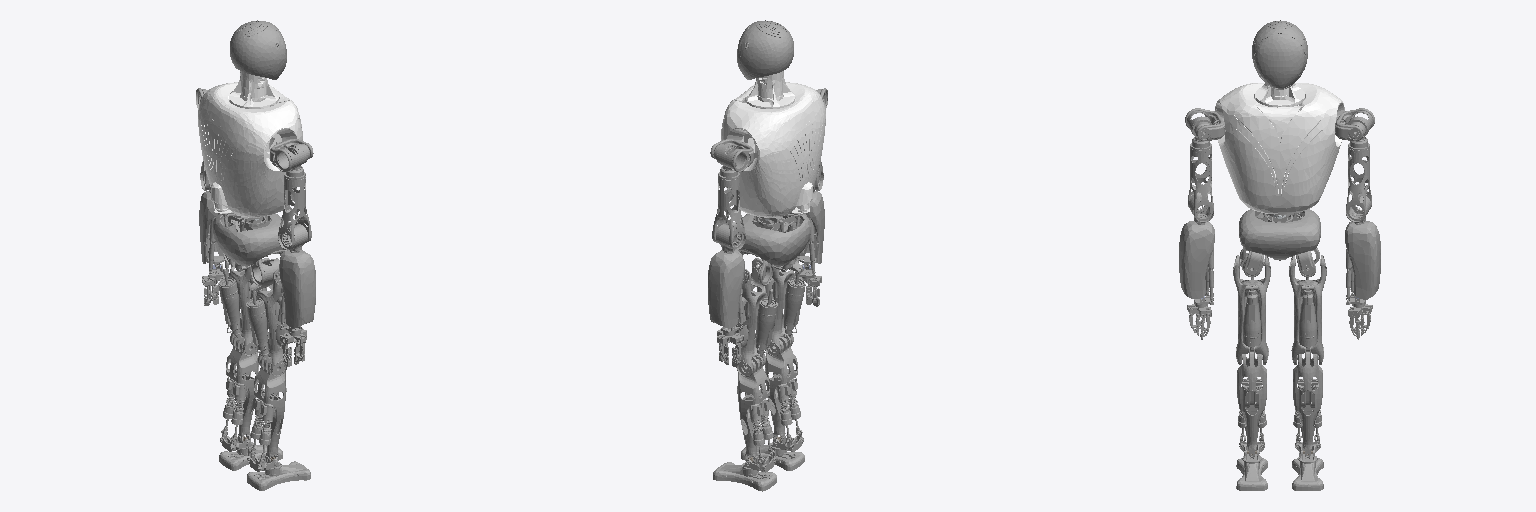
--- Facts derived from the render (not from the file) ---
3 views of the same robot in one strip: view 1: azimuth 30°, elevation 25°; view 2: azimuth 150°, elevation 25°; view 3: azimuth 270°, elevation 25° (orthographic).
Model RH5 with 62 links and 61 joints (35 revolute, 3 prismatic, 23 fixed), rooted at world, posed every joint at zero.
Visible links, largest first — view 1: BodyYaw_Link, RH5_Root_Link, HeadYaw_Link, LRKnee_Link, LLKnee_Link, ARWristRoll_Link, ARShoulder3_Link, LRHip3_Link, LRHip2_Link, LRAnkle_FT, ALWristRoll_Link, LLHip3_Link (+5 smaller); view 2: BodyYaw_Link, RH5_Root_Link, HeadYaw_Link, LLKnee_Link, ALWristRoll_Link, LRKnee_Link, LLHip3_Link, ALShoulder3_Link, LLAnkle_FT, ARWristRoll_Link, LRHip3_Link, LRHip2_Link (+5 smaller); view 3: BodyYaw_Link, RH5_Root_Link, HeadYaw_Link, LRHip3_Link, ALWristRoll_Link, ARWristRoll_Link, LLHip3_Link, LLKnee_Link, LRKnee_Link, ALShoulder3_Link, ARShoulder3_Link, LLAnkle_FT (+5 smaller).
Boxes of the visible links, bbox=[...] form: BodyYaw_Link: bbox=[198, 71, 302, 217]; RH5_Root_Link: bbox=[213, 213, 290, 271]; HeadYaw_Link: bbox=[230, 20, 286, 79]; LRKnee_Link: bbox=[250, 356, 286, 462]; LLKnee_Link: bbox=[223, 336, 258, 442]; ARWristRoll_Link: bbox=[279, 250, 315, 328]; ARShoulder3_Link: bbox=[278, 166, 311, 249]; LRHip3_Link: bbox=[256, 258, 289, 375]; LRHip2_Link: bbox=[246, 258, 279, 355]; LRAnkle_FT: bbox=[247, 456, 310, 490]; ALWristRoll_Link: bbox=[199, 191, 228, 273]; LLHip3_Link: bbox=[228, 267, 266, 355]; BodyYaw_Link: bbox=[721, 71, 825, 217]; RH5_Root_Link: bbox=[740, 213, 810, 271]; HeadYaw_Link: bbox=[737, 20, 793, 79]; LLKnee_Link: bbox=[737, 357, 773, 463]; ALWristRoll_Link: bbox=[708, 250, 744, 328]; LRKnee_Link: bbox=[765, 336, 800, 443]; LLHip3_Link: bbox=[733, 258, 767, 376]; ALShoulder3_Link: bbox=[712, 166, 745, 249]; LLAnkle_FT: bbox=[713, 456, 776, 491]; ARWristRoll_Link: bbox=[798, 191, 824, 272]; LRHip3_Link: bbox=[757, 268, 795, 355]; LRHip2_Link: bbox=[784, 262, 805, 335]; BodyYaw_Link: bbox=[1215, 83, 1344, 214]; RH5_Root_Link: bbox=[1239, 209, 1320, 260]; HeadYaw_Link: bbox=[1252, 20, 1307, 89]; LRHip3_Link: bbox=[1233, 255, 1270, 364]; ALWristRoll_Link: bbox=[1345, 221, 1380, 300]; ARWristRoll_Link: bbox=[1179, 221, 1214, 300]; LLHip3_Link: bbox=[1289, 255, 1326, 364]; LLKnee_Link: bbox=[1293, 347, 1322, 457]; LRKnee_Link: bbox=[1237, 347, 1266, 457]; ALShoulder3_Link: bbox=[1346, 137, 1371, 222]; ARShoulder3_Link: bbox=[1188, 137, 1213, 222]; LLAnkle_FT: bbox=[1292, 441, 1323, 490].
Bounding box of the posed robot: 0.3672 × 0.8021 × 1.98 m (x, y, z).
Meshes: 53 distinct files referenced, 79 mesh visuals loaded (51 binary STL); not drawn: 3 (reference not matched to a file when rendering).

robot.urdf — RH5:
<robot name="RH5">


        <link name="world">
        <inertial>
          <origin xyz="0 0 0" rpy="0.0 0.0 0.0"/>
          <mass value="0.0"/>
          <inertia ixx="0" ixy="0" ixz="0" iyy="0" iyz="0.0" izz="0"/>
        </inertial>
        </link>

        <link name="Root_Link_x">
           </link>

            <joint name="floating_base_trans_x" type="prismatic">
        <origin xyz="0 0 0" rpy="0 0 0"/>
            <parent link="world" />
    	<child link="Root_Link_x" />
    	<axis xyz="1 0 0" />
            <limit lower="-1.57" upper="1.57" effort="0" velocity="0" />
    	</joint>

    	<link name="Root_Link_y">
    	</link>

    	<joint
            name="floating_base_trans_y" type="prismatic">
    	<parent link="Root_Link_x" />
    	<child link="Root_Link_y" />
    	<axis xyz="0 1 0" />
    	<limit lower="-1.57" upper="1.57" effort="0" velocity="0" />
    	</joint>

    	<link name="Root_Link_z">
    	</link>

    	<joint
            name="floating_base_trans_z" type="prismatic">
    	<parent link="Root_Link_y" />
    	<child link="Root_Link_z" />
    	<axis xyz="0 0 1" />
    	<limit lower="-1.57" upper="1.57" effort="0" velocity="0" />
    	</joint>

    	<link name="Root_Link_rx">
    	</link>

    	<joint
            name="floating_base_rot_x" type="revolute">
        <origin xyz="0 0 0" rpy="0 0 0"/>
    	<parent link="Root_Link_z" />
    	<child link="Root_Link_rx" />
    	<axis xyz="1 0 0" />
    	<limit lower="-1.57" upper="1.57" effort="0" velocity="0" />
    	</joint>

    	<link name="Root_Link_ry">
    	</link>

    	<joint
            name="floating_base_rot_y" type="revolute">
    	<parent link="Root_Link_rx" />
    	<child link="Root_Link_ry" />
    	<axis xyz="0 1 0" />
    	<limit lower="-1.57" upper="1.57" effort="0" velocity="0" />
    	</joint>

    	<joint
            name="floating_base_rot_z" type="revolute">
    	<parent link="Root_Link_ry" />
            <child link="RH5_Root_Link" />
    	<axis xyz="0 0 1" />
    	<limit lower="-1.57" upper="1.57" effort="0" velocity="0" />
    	</joint>

  <joint name="ALElbow" type="revolute">
    <origin xyz="0.0 0.0 0.355" rpy="1.5708 -1.5708 0.0"/>
    <axis xyz="0.0 0.0 -1.0"/>
    <parent link="ALShoulder3_Link"/>
    <child link="ALElbow_Link"/>
    <limit effort="30.0" lower="-1.62" upper="0.1872" velocity="1.8326"/>
  </joint>
  <link name="ALElbow_Link">
    <inertial>
      <origin xyz="0.010641 3.9392e-07 0.0080701" rpy="0.0 0.0 0.0"/>
      <mass value="0.255"/>
      <inertia ixx="0.00028052" ixy="-4.0187e-09" ixz="2.2663e-05" iyy="0.00036848" iyz="2.9394e-09" izz="0.00038255"/>
    </inertial>
    <visual name="ALElbow_Link_visual">
      <origin xyz="0.0 0.0 0.0" rpy="0.0 0.0 0.0"/>
      <geometry>
        <mesh filename="../meshes/ALElbow_Link.STL"/>
      </geometry>
      <material name="">
        <color rgba="0.69804 0.69804 0.69804 1.0"/>
      </material>
    </visual>
  </link>
  <joint name="ALShoulder" type="fixed">
    <origin xyz="0.012 0.313 0.386" rpy="1.5708 0.0 2.8988"/>
    <parent link="BodyYaw_Link"/>
    <child link="ALShoulder_Link"/>
    <limit effort="150.0" lower="0.0" upper="0.0" velocity="1.658"/>
  </joint>
  <joint name="ALShoulder1" type="revolute">
    <origin xyz="0.0 0.0 0.0" rpy="1.5708 -1.5708 0.0"/>
    <axis xyz="1.0 0.0 0.0"/>
    <parent link="ALShoulder_Link"/>
    <child link="ALShoulder1_Link"/>
    <limit effort="135.0" lower="-3.0543" upper="3.0543" velocity="1.8326"/>
  </joint>
  <link name="ALShoulder1_Link">
    <inertial>
      <origin xyz="-0.053027 0.0029798 -1.6132e-07" rpy="0.0 0.0 0.0"/>
      <mass value="0.47438"/>
      <inertia ixx="0.0013753" ixy="3.4317e-05" ixz="-5.2624e-09" iyy="0.00084701" iyz="1.2533e-08" izz="0.0018205"/>
    </inertial>
    <visual name="ALShoulder1_Link_visual">
      <origin xyz="0.0 0.0 0.0" rpy="0.0 0.0 0.0"/>
      <geometry>
        <mesh filename="../meshes/ALShoulder1_Link.STL"/>
      </geometry>
      <material name="">
        <color rgba="0.69804 0.69804 0.69804 1.0"/>
      </material>
    </visual>
  </link>
  <joint name="ALShoulder2" type="revolute">
    <origin xyz="0.0 0.0 0.0" rpy="0.0 1.9722e-31 0.0"/>
    <axis xyz="0.0 1.0 0.0"/>
    <parent link="ALShoulder1_Link"/>
    <child link="ALShoulder2_Link"/>
    <limit effort="167.0" lower="-0.5236" upper="1.571" velocity="1.8326"/>
  </joint>
  <link name="ALShoulder2_Link">
    <inertial>
      <origin xyz="2.5304e-05 0.0076989 0.0023608" rpy="0.0 0.0 0.0"/>
      <mass value="0.98"/>
      <inertia ixx="0.0012245" ixy="3.9462e-07" ixz="5.5448e-07" iyy="0.0010372" iyz="3.2296e-05" izz="0.0012057"/>
    </inertial>
    <visual name="ALShoulder2_Link_visual">
      <origin xyz="0.0 0.0 0.0" rpy="0.0 0.0 0.0"/>
      <geometry>
        <mesh filename="../meshes/ALShoulder2_Link.STL"/>
      </geometry>
      <material name="">
        <color rgba="0.69804 0.69804 0.69804 1.0"/>
      </material>
    </visual>
  </link>
  <joint name="ALShoulder3" type="revolute">
    <origin xyz="0.0 0.0 0.0" rpy="0.0 1.9722e-31 0.0"/>
    <axis xyz="0.0 0.0 1.0"/>
    <parent link="ALShoulder2_Link"/>
    <child link="ALShoulder3_Link"/>
    <limit effort="53.0" lower="-3.0543" upper="3.0543" velocity="1.8326"/>
  </joint>
  <link name="ALShoulder3_Link">
    <inertial>
      <origin xyz="7.9284e-06 3.7845e-05 0.16439" rpy="0.0 0.0 0.0"/>
      <mass value="1.3999"/>
      <inertia ixx="0.013898" ixy="1.2682e-06" ixz="8.7833e-07" iyy="0.013686" iyz="2.7121e-06" izz="0.0019878"/>
    </inertial>
    <visual name="ALShoulder3_Link_visual">
      <origin xyz="0.0 0.0 0.0" rpy="0.0 0.0 0.0"/>
      <geometry>
        <mesh filename="../meshes/ALShoulder3_Link.STL"/>
      </geometry>
      <material name="">
        <color rgba="0.69804 0.69804 0.69804 1.0"/>
      </material>
    </visual>
    <collision name="ALShoulder3_Link_collision">
      <origin xyz="-1.862645149230957e-09 4.284083843231201e-08 0.2224999964237213" rpy="0.0 -0.0 0.0"/>
      <geometry>
        <box size="0.08700039610266685 0.11106326058506966 0.34700000286102295"/>
      </geometry>
    </collision>
  </link>
  <link name="ALShoulder_Link"/>
  <joint name="ALWristPitch" type="revolute">
    <origin xyz="0.0 0.0 0.0" rpy="-4.9304e-32 -9.5526e-32 0.0"/>
    <axis xyz="0.0 1.0 0.0"/>
    <parent link="ALWristYaw_Link"/>
    <child link="ALWristPitch_Link"/>
    <limit effort="12.5" lower="-3.1416" upper="3.1416" velocity="5.0"/>
  </joint>
  <link name="ALWristPitch_Link">
    <inertial>
      <origin xyz="3.0531e-14 -6.0923e-15 -3.3085e-14" rpy="0.0 0.0 0.0"/>
      <mass value="6.2832e-06"/>
      <inertia ixx="3.6652e-12" ixy="1.757e-26" ixz="2.9539e-41" iyy="3.1416e-12" iyz="-9.766e-28" izz="3.6652e-12"/>
    </inertial>
    <visual name="ALWristPitch_Link_visual">
      <origin xyz="0.0 0.0 0.0" rpy="0.0 0.0 0.0"/>
      <geometry>
        <mesh filename="../meshes/ALWristPitch_Link.STL"/>
      </geometry>
      <material name="">
        <color rgba="0.79216 0.81961 0.93333 1.0"/>
      </material>
    </visual>
  </link>
  <joint name="ALWristRoll" type="revolute">
    <origin xyz="0.386 0.0 0.0" rpy="-1.5708 3.1415926536 1.5708"/>
    <axis xyz="0.0 0.0 -1.0"/>
    <parent link="ALElbow_Link"/>
    <child link="ALWristRoll_Link"/>
    <limit effort="53.0" lower="-3.0543" upper="3.0543" velocity="1.8326"/>
  </joint>
  <link name="ALWristRoll_Link">
    <inertial>
      <origin xyz="0.025274 -4.3815e-06 0.19965" rpy="0.0 0.0 0.0"/>
      <mass value="2.7535303221510077"/>
      <inertia ixx="0.02143437784400675" ixy="-9.847185892502454e-07" ixz="0.002595868954405005" iyy="0.02185740729863702" iyz="9.795344617435307e-07" izz="0.005193234315356229"/>
    </inertial>
    <visual name="ALWristRoll_Link_visual">
      <origin xyz="0.0 0.0 0.0" rpy="0.0 0.0 0.0"/>
      <geometry>
        <mesh filename="../meshes/ALWristRoll_Link.STL"/>
      </geometry>
      <material name="">
        <color rgba="0.69804 0.69804 0.69804 1.0"/>
      </material>
    </visual>
    <collision name="ALWristRoll_Link_collision">
      <origin xyz="0.014875711873173714 0.0 0.16224999818950891" rpy="0.0 -0.0 0.0"/>
      <geometry>
        <box size="0.13932063803076744 0.11817342042922974 0.34249999932944775"/>
      </geometry>
    </collision>
    <visual name="ALWrist_B11_Link_visual">
      <origin xyz="-0.032 -0.016 0.2616" rpy="3.0704 -3.3070000000000003e-15 -2.7145e-14"/>
      <geometry>
        <mesh filename="../meshes/ALWrist_B11_Link.STL"/>
      </geometry>
      <material name="">
        <color rgba="0.64706 0.61961 0.58824 1.0"/>
      </material>
    </visual>
    <visual name="ALWrist_B12_Link_visual">
      <origin xyz="-0.032 -0.016 0.2616" rpy="3.070392054331078 0.014927088938295474 -0.0010645773830478876"/>
      <geometry>
        <mesh filename="../meshes/ALWrist_B12_Link.STL"/>
      </geometry>
      <material name="">
        <color rgba="0.69804 0.69804 0.69804 1.0"/>
      </material>
    </visual>
    <visual name="ALWrist_Act1_Link_visual">
      <origin xyz="-0.03600014483987568 -0.03501230750565344 -0.005003014057550548" rpy="3.1415480000000042 -2.3388489558662824e-15 -1.3532290290170274e-14"/>
      <geometry>
        <mesh filename="../meshes/ALWrist_Act1_Link.STL"/>
      </geometry>
      <material name="">
        <color rgba="0.69804 0.69804 0.69804 1.0"/>
      </material>
    </visual>
    <visual name="ALWrist_B21_Link_visual">
      <origin xyz="-0.032 0.016 0.2616" rpy="-3.0704 0.014927000000000003 0.0010639000000000002"/>
      <geometry>
        <mesh filename="../meshes/ALWrist_B21_Link.STL"/>
      </geometry>
      <material name="">
        <color rgba="0.64706 0.61961 0.58824 1.0"/>
      </material>
    </visual>
    <visual name="ALWrist_B22_Link_visual">
      <origin xyz="-0.032 0.016 0.2616" rpy="-3.0703969702485048 0.017543554826743444 0.0012505233584122017"/>
      <geometry>
        <mesh filename="../meshes/ALWrist_B22_Link.STL"/>
      </geometry>
      <material name="">
        <color rgba="0.69804 0.69804 0.69804 1.0"/>
      </material>
    </visual>
    <visual name="ALWrist_Act2_Link_visual">
      <origin xyz="-0.036000141211532416 0.035010257045837365 -0.0050040824232726044" rpy="-3.0704 0.014927 0.0010639000000000533"/>
      <geometry>
        <mesh filename="../meshes/ALWrist_Act2_Link.STL"/>
      </geometry>
      <material name="">
        <color rgba="0.69804 0.69804 0.69804 1.0"/>
      </material>
    </visual>
  </link>
  <joint name="ALWristYaw" type="revolute">
    <origin xyz="0.0 0.0 0.0" rpy="-4.9304e-32 -9.5526e-32 0.0"/>
    <axis xyz="1.0 0.0 0.0"/>
    <parent link="ALWristRoll_Link"/>
    <child link="ALWristYaw_Link"/>
    <limit effort="12.5" lower="-1.2566" upper="0.7853" velocity="5.0"/>
  </joint>
  <link name="ALWristYaw_Link">
    <inertial>
      <origin xyz="-3.8303e-15 -5.8703e-15 -1.6653e-16" rpy="0.0 0.0 0.0"/>
      <mass value="0.006976"/>
      <inertia ixx="1.0349e-06" ixy="-7.3387e-21" ixz="1.7878e-22" iyy="4.8433e-07" iyz="-5.1569e-21" izz="1.4399e-06"/>
    </inertial>
    <visual name="ALWristYaw_Link_visual">
      <origin xyz="0.0 0.0 0.0" rpy="0.0 0.0 0.0"/>
      <geometry>
        <mesh filename="../meshes/ALWristYaw_Link.STL"/>
      </geometry>
      <material name="">
        <color rgba="0.79216 0.81961 0.93333 1.0"/>
      </material>
    </visual>
  </link>

  <link name="AL_TCP_Link"/>
  <joint name="AL_TCP" type="fixed">
    <origin xyz="0.01 0.0 0.15" rpy="0 0 0"/>
    <axis xyz="0.0 0.0 0.0"/>
    <parent link="ALWrist_FT"/>
    <child link="AL_TCP_Link"/>
  </joint>

  <link name="ALWrist_FT">
    <inertial>
      <origin xyz="0.0013964 -8.0618e-05 0.041768" rpy="0.0 0.0 0.0"/>
      <mass value="0.46746"/>
      <inertia ixx="0.0011813" ixy="9.7393e-07" ixz="-6.577e-05" iyy="0.00099999" iyz="3.5173e-06" izz="0.00055976"/>
    </inertial>
    <visual name="ALWrist_FT_visual">
      <origin xyz="0.0 0.0 0.0" rpy="0.0 0.0 0.0"/>
      <geometry>
        <mesh filename="../meshes/ALWrist_FT.STL"/>
      </geometry>
      <material name="">
        <color rgba="0.69804 0.69804 0.69804 1.0"/>
      </material>
    </visual>
    <collision name="ALWrist_FT_collision">
      <origin xyz="0.004535641521215439 -9.125098586082458e-06 0.05165606364607811" rpy="0.0 -0.0 0.0"/>
      <geometry>
        <box size="0.0960712879896164 0.1100204549729824 0.1812121346592903"/>
      </geometry>
    </collision>
  </link>
  <joint name="ALWrist_FT" type="fixed">
    <origin xyz="0.0 0.0 -0.02995" rpy="-3.1416 -2.9034e-15 1.6653e-16"/>
    <axis xyz="0.0 0.0 0.0"/>
    <parent link="ALWristPitch_Link"/>
    <child link="ALWrist_FT"/>
  </joint>
  <joint name="ARElbow" type="revolute">
    <origin xyz="0.0 0.0 0.355" rpy="1.5708 -1.5708 0.0"/>
    <axis xyz="0.0 0.0 -1.0"/>
    <parent link="ARShoulder3_Link"/>
    <child link="ARElbow_Link"/>
    <limit effort="30.0" lower="-0.1872" upper="1.62" velocity="1.8326"/>
  </joint>
  <link name="ARElbow_Link">
    <inertial>
      <origin xyz="0.010641 3.9392e-07 0.0080701" rpy="0.0 0.0 0.0"/>
      <mass value="0.255"/>
      <inertia ixx="0.00028052" ixy="-4.0187e-09" ixz="2.2663e-05" iyy="0.00036848" iyz="2.9394e-09" izz="0.00038255"/>
    </inertial>
    <visual name="ARElbow_Link_visual">
      <origin xyz="0.0 0.0 0.0" rpy="0.0 0.0 0.0"/>
      <geometry>
        <mesh filename="../meshes/ALElbow_Link.STL"/>
      </geometry>
      <material name="">
        <color rgba="0.69804 0.69804 0.69804 1.0"/>
      </material>
    </visual>
  </link>
  <joint name="ARShoulder" type="fixed">
    <origin xyz="0.012 -0.313 0.386" rpy="1.5708 0.0 0.2428"/>
    <parent link="BodyYaw_Link"/>
    <child link="ARShoulder_Link"/>
    <limit effort="150.0" lower="0.0" upper="0.0" velocity="1.658"/>
  </joint>
  <joint name="ARShoulder1" type="revolute">
    <origin xyz="0.0 0.0 0.0" rpy="1.5708 1.5708 0.0"/>
    <axis xyz="-1.0 0.0 0.0"/>
    <parent link="ARShoulder_Link"/>
    <child link="ARShoulder1_Link"/>
    <limit effort="135.0" lower="-3.0543" upper="3.0543" velocity="1.8326"/>
  </joint>
  <link name="ARShoulder1_Link">
    <inertial>
      <origin xyz="0.053027 0.0029798 1.6135e-07" rpy="0.0 0.0 0.0"/>
      <mass value="0.47438"/>
      <inertia ixx="0.0013753" ixy="-3.4317e-05" ixz="-5.2626e-09" iyy="0.000847" iyz="-1.2533e-08" izz="0.0018205"/>
    </inertial>
    <visual name="ARShoulder1_Link_visual">
      <origin xyz="0.0 0.0 0.0" rpy="0.0 0.0 0.0"/>
      <geometry>
        <mesh filename="../meshes/ARShoulder1_Link.STL"/>
      </geometry>
      <material name="">
        <color rgba="0.69804 0.69804 0.69804 1.0"/>
      </material>
    </visual>
  </link>
  <joint name="ARShoulder2" type="revolute">
    <origin xyz="0.0 0.0 0.0" rpy="0.0 -1.9722e-31 0.0"/>
    <axis xyz="0.0 1.0 0.0"/>
    <parent link="ARShoulder1_Link"/>
    <child link="ARShoulder2_Link"/>
    <limit effort="167.0" lower="-1.571" upper="0.5236" velocity="1.8326"/>
  </joint>
  <link name="ARShoulder2_Link">
    <inertial>
      <origin xyz="2.5307e-05 0.0076989 0.0023608" rpy="0.0 0.0 0.0"/>
      <mass value="0.98"/>
      <inertia ixx="0.0012245" ixy="3.9471e-07" ixz="5.5464e-07" iyy="0.0010372" iyz="3.2296e-05" izz="0.0012057"/>
    </inertial>
    <visual name="ARShoulder2_Link_visual">
      <origin xyz="0.0 0.0 0.0" rpy="0.0 0.0 0.0"/>
      <geometry>
        <mesh filename="../meshes/ARShoulder2_Link.STL"/>
      </geometry>
      <material name="">
        <color rgba="0.69804 0.69804 0.69804 1.0"/>
      </material>
    </visual>
  </link>
  <joint name="ARShoulder3" type="revolute">
    <origin xyz="0.0 0.0 0.0" rpy="0.0 1.9722e-31 0.0"/>
    <axis xyz="0.0 0.0 1.0"/>
    <parent link="ARShoulder2_Link"/>
    <child link="ARShoulder3_Link"/>
    <limit effort="53.0" lower="-3.0543" upper="3.0543" velocity="1.8326"/>
  </joint>
  <link name="ARShoulder3_Link">
    <inertial>
      <origin xyz="7.9284e-06 3.7845e-05 0.16439" rpy="0.0 0.0 0.0"/>
      <mass value="1.3999"/>
      <inertia ixx="0.013898" ixy="1.2682e-06" ixz="8.7833e-07" iyy="0.013686" iyz="2.7121e-06" izz="0.0019878"/>
    </inertial>
    <visual name="ARShoulder3_Link_visual">
      <origin xyz="0.0 0.0 0.0" rpy="0.0 0.0 0.0"/>
      <geometry>
        <mesh filename="../meshes/ALShoulder3_Link.STL"/>
      </geometry>
      <material name="">
        <color rgba="0.69804 0.69804 0.69804 1.0"/>
      </material>
    </visual>
    <collision name="ARShoulder3_Link_collision">
      <origin xyz="-1.862645149230957e-09 4.284083843231201e-08 0.2224999964237213" rpy="0.0 -0.0 0.0"/>
      <geometry>
        <box size="0.08700039610266685 0.11106326058506966 0.34700000286102295"/>
      </geometry>
    </collision>
  </link>
  <link name="ARShoulder_Link"/>
  <joint name="ARWristPitch" type="revolute">
    <origin xyz="0.0 0.0 0.0" rpy="-4.9304e-32 -9.5526e-32 0.0"/>
    <axis xyz="0.0 1.0 0.0"/>
    <parent link="ARWristYaw_Link"/>
    <child link="ARWristPitch_Link"/>
    <limit effort="12.5" lower="-3.1416" upper="3.1416" velocity="5.0"/>
  </joint>
  <link name="ARWristPitch_Link">
    <inertial>
      <origin xyz="3.0531e-14 -6.0923e-15 -3.3085e-14" rpy="0.0 0.0 0.0"/>
      <mass value="6.2832e-06"/>
      <inertia ixx="3.6652e-12" ixy="1.757e-26" ixz="2.9539e-41" iyy="3.1416e-12" iyz="-9.766e-28" izz="3.6652e-12"/>
    </inertial>
    <visual name="ARWristPitch_Link_visual">
      <origin xyz="0.0 0.0 0.0" rpy="0.0 0.0 0.0"/>
      <geometry>
        <mesh filename="../meshes/ALWristPitch_Link.STL"/>
      </geometry>
      <material name="">
        <color rgba="0.79216 0.81961 0.93333 1.0"/>
      </material>
    </visual>
  </link>
  <joint name="ARWristRoll" type="revolute">
    <origin xyz="0.386 0.0 0.0" rpy="-1.5708 0.0 1.5708"/>
    <axis xyz="0.0 0.0 -1.0"/>
    <parent link="ARElbow_Link"/>
    <child link="ARWristRoll_Link"/>
    <limit effort="53.0" lower="-3.0543" upper="3.0543" velocity="1.8326"/>
  </joint>
  <link name="ARWristRoll_Link">
    <inertial>
      <origin xyz="0.025274 -4.3815e-06 0.19965" rpy="0.0 0.0 0.0"/>
      <mass value="2.7535303221510077"/>
      <inertia ixx="0.02143437784400675" ixy="-9.847185892502454e-07" ixz="0.002595868954405005" iyy="0.02185740729863702" iyz="9.795344617435307e-07" izz="0.005193234315356229"/>
    </inertial>
    <visual name="ARWristRoll_Link_visual">
      <origin xyz="0.0 0.0 0.0" rpy="0.0 0.0 0.0"/>
      <geometry>
        <mesh filename="../meshes/ALWristRoll_Link.STL"/>
      </geometry>
      <material name="">
        <color rgba="0.69804 0.69804 0.69804 1.0"/>
      </material>
    </visual>
    <collision name="ARWristRoll_Link_collision">
      <origin xyz="0.014875711873173714 0.0 0.16224999818950891" rpy="0.0 -0.0 0.0"/>
      <geometry>
        <box size="0.13932063803076744 0.11817342042922974 0.34249999932944775"/>
      </geometry>
    </collision>
    <visual name="ARWrist_B11_Link_visual">
      <origin xyz="-0.032 -0.016 0.2616" rpy="3.0704 -3.3070000000000003e-15 -2.7145e-14"/>
      <geometry>
        <mesh filename="../meshes/ALWrist_B11_Link.STL"/>
      </geometry>
      <material name="">
        <color rgba="0.64706 0.61961 0.58824 1.0"/>
      </material>
    </visual>
    <visual name="ARWrist_B12_Link_visual">
      <origin xyz="-0.032 -0.016 0.2616" rpy="3.070392054331078 0.014927088938295474 -0.0010645773830478876"/>
      <geometry>
        <mesh filename="../meshes/ALWrist_B12_Link.STL"/>
      </geometry>
      <material name="">
        <color rgba="0.69804 0.69804 0.69804 1.0"/>
      </material>
    </visual>
    <visual name="ARWrist_Act1_Link_visual">
      <origin xyz="-0.03600014483987568 -0.03501230750565344 -0.005003014057550548" rpy="3.1415480000000042 -2.3388489558662824e-15 -1.3532290290170274e-14"/>
      <geometry>
        <mesh filename="../meshes/ALWrist_Act1_Link.STL"/>
      </geometry>
      <material name="">
        <color rgba="0.69804 0.69804 0.69804 1.0"/>
      </material>
    </visual>
    <visual name="ARWrist_B21_Link_visual">
      <origin xyz="-0.032 0.016 0.2616" rpy="-3.0704 0.014927000000000003 0.0010639000000000002"/>
      <geometry>
        <mesh filename="../meshes/ALWrist_B21_Link.STL"/>
      </geometry>
      <material name="">
        <color rgba="0.64706 0.61961 0.58824 1.0"/>
      </material>
    </visual>
    <visual name="ARWrist_B22_Link_visual">
      <origin xyz="-0.032 0.016 0.2616" rpy="-3.0703969702485048 0.017543554826743444 0.0012505233584122017"/>
      <geometry>
        <mesh filename="../meshes/ALWrist_B22_Link.STL"/>
      </geometry>
      <material name="">
        <color rgba="0.69804 0.69804 0.69804 1.0"/>
      </material>
    </visual>
    <visual name="ARWrist_Act2_Link_visual">
      <origin xyz="-0.036000141211532416 0.035010257045837365 -0.0050040824232726044" rpy="-3.0704 0.014927 0.0010639000000000533"/>
      <geometry>
        <mesh filename="../meshes/ALWrist_Act2_Link.STL"/>
      </geometry>
      <material name="">
        <color rgba="0.69804 0.69804 0.69804 1.0"/>
      </material>
    </visual>
  </link>
  <joint name="ARWristYaw" type="revolute">
    <origin xyz="0.0 0.0 0.0" rpy="-4.9304e-32 -9.5526e-32 0.0"/>
    <axis xyz="1.0 0.0 0.0"/>
    <parent link="ARWristRoll_Link"/>
    <child link="ARWristYaw_Link"/>
    <limit effort="12.5" lower="-1.2566" upper="0.7853" velocity="5.0"/>
  </joint>
  <link name="ARWristYaw_Link">
    <inertial>
      <origin xyz="-3.8303e-15 -5.8703e-15 -1.6653e-16" rpy="0.0 0.0 0.0"/>
      <mass value="0.006976"/>
      <inertia ixx="1.0349e-06" ixy="-7.3387e-21" ixz="1.7878e-22" iyy="4.8433e-07" iyz="-5.1569e-21" izz="1.4399e-06"/>
    </inertial>
    <visual name="ARWristYaw_Link_visual">
      <origin xyz="0.0 0.0 0.0" rpy="0.0 0.0 0.0"/>
      <geometry>
        <mesh filename="../meshes/ALWristYaw_Link.STL"/>
      </geometry>
      <material name="">
        <color rgba="0.79216 0.81961 0.93333 1.0"/>
      </material>
    </visual>
  </link>
  <link name="ARWrist_FT">
    <inertial>
      <origin xyz="0.0013964 -8.0618e-05 0.041768" rpy="0.0 0.0 0.0"/>
      <mass value="0.46746"/>
      <inertia ixx="0.0011813" ixy="9.7393e-07" ixz="-6.577e-05" iyy="0.00099999" iyz="3.5173e-06" izz="0.00055976"/>
    </inertial>
    <visual name="ARWrist_FT_visual">
      <origin xyz="0.0 0.0 0.0" rpy="0.0 0.0 0.0"/>
      <geometry>
        <mesh filename="../meshes/ALWrist_FT.STL"/>
      </geometry>
      <material name="">
        <color rgba="0.69804 0.69804 0.69804 1.0"/>
      </material>
    </visual>
    <collision name="ARWrist_FT_collision">
      <origin xyz="0.004535641521215439 -9.125098586082458e-06 0.05165606364607811" rpy="0.0 -0.0 0.0"/>
      <geometry>
        <box size="0.0960712879896164 0.1100204549729824 0.1812121346592903"/>
      </geometry>
    </collision>
  </link>
  <joint name="ARWrist_FT" type="fixed">
    <origin xyz="0.0 0.0 -0.02995" rpy="-3.1416 -2.9034e-15 1.6653e-16"/>
    <axis xyz="0.0 0.0 0.0"/>
    <parent link="ARWristPitch_Link"/>
    <child link="ARWrist_FT"/>
  </joint>
  <joint name="BodyPitch" type="revolute">
    <origin xyz="0.048 0.0 0.217" rpy="-2.6535895865327376e-06 7.597036925082506e-19 -3.673200206740934e-06"/>
    <axis xyz="0.0 1.0 0.0"/>
    <parent link="RH5_Root_Link"/>
    <child link="BodyPitch_Link"/>
    <limit effort="140.0" lower="-0.367" upper="0.489" velocity="2.321"/>
  </joint>
  <link name="BodyPitch_Link">
    <inertial>
      <origin xyz="-1.3464e-09 2.3289e-09 2.2552e-09" rpy="0.0 0.0 0.0"/>
      <mass value="0.085152"/>
      <inertia ixx="2.6756e-05" ixy="-2.1852e-12" ixz="-2.2958e-12" iyy="2.6756e-05" iyz="-2.6082e-13" izz="5.0206e-05"/>
    </inertial>
    <visual name="BodyPitch_Link_visual">
      <origin xyz="0.0 0.0 0.0" rpy="0.0 0.0 0.0"/>
      <geometry>
        <mesh filename="../meshes/BodyPitch_Link.STL"/>
      </geometry>
      <material name="">
        <color rgba="0.89804 0.91765 0.92941 1.0"/>
      </material>
    </visual>
  </link>
  <joint name="BodyRoll" type="revolute">
    <origin xyz="0.0 0.0 0.0" rpy="9.4311e-35 0.0 0.0"/>
    <axis xyz="1.0 0.0 0.0"/>
    <parent link="BodyPitch_Link"/>
    <child link="BodyRoll_Link"/>
    <limit effort="140.0" lower="-0.402" upper="0.402" velocity="2.321"/>
  </joint>
  <link name="BodyRoll_Link">
    <inertial>
      <origin xyz="-0.018531 1.3194e-09 0.025426" rpy="0.0 0.0 0.0"/>
      <mass value="0.31532"/>
      <inertia ixx="0.00053663" ixy="-3.6063e-10" ixz="-2.5818e-05" iyy="0.00050964" iyz="-3.7361e-11" izz="0.00097717"/>
    </inertial>
    <visual name="BodyRoll_Link_visual">
      <origin xyz="0.0 0.0 0.0" rpy="0.0 0.0 0.0"/>
      <geometry>
        <mesh filename="../meshes/BodyRoll_Link.STL"/>
      </geometry>
      <material name="">
        <color rgba="0.69804 0.69804 0.69804 1.0"/>
      </material>
    </visual>
  </link>
  <joint name="BodyYaw" type="revolute">
    <origin xyz="0.0 0.0 0.0" rpy="9.4311e-35 0.0 0.0"/>
    <axis xyz="0.0 0.0 1.0"/>
    <parent link="BodyRoll_Link"/>
    <child link="BodyYaw_Link"/>
    <limit effort="23.0" lower="-0.523567" upper="0.523567" velocity="1.8326"/>
  </joint>
  <link name="BodyYaw_Link">
    <inertial>
      <origin xyz="-0.015999 0.00018406 0.27483" rpy="0.0 0.0 0.0"/>
      <mass value="27.404130022029797"/>
      <inertia ixx="1.1652166797" ixy="-5.024951000000556e-05" ixz="-0.02769700000269703" iyy="0.9892691615" iyz="-0.0005796599830185423" izz="0.6068650699999999"/>
    </inertial>
    <visual name="BodyYaw_Link_visual">
      <origin xyz="0.0 0.0 0.0" rpy="0.0 0.0 0.0"/>
      <geometry>
        <mesh filename="../meshes/BodyYaw_Link.STL"/>
      </geometry>
      <material name="">
        <color rgba="1.0 1.0 1.0 1.0"/>
      </material>
    </visual>
    <collision name="BodyYaw_Link_collision">
      <origin xyz="-0.006467804312705994 -2.5704503059387207e-05 0.2807557052001357" rpy="0.0 -0.0 0.0"/>
      <geometry>
        <box size="0.3599925637245178 0.514311820268631 0.5017095673829317"/>
      </geometry>
    </collision>
    <visual name="BodyYaw_Act1_Link_visual">
      <origin xyz="-0.145 0.0 0.04741" rpy="-1.0007e-16 -0.0 -3.4915e-15"/>
      <geometry>
        <mesh filename="../meshes/BodyYaw_Act1_Link.STL"/>
      </geometry>
      <material name="">
        <color rgba="0.69804 0.69804 0.69804 1.0"/>
      </material>
    </visual>
    <visual name="BodyYaw_B11_Link_visual">
      <origin xyz="-0.1453183599999999 0.029998 0.04741" rpy="1.5707999999999998 -0.0 -3.4915e-15"/>
      <geometry>
        <mesh filename="../meshes/BodyYaw_B11_Link.STL"/>
      </geometry>
      <material name="">
        <color rgba="0.69804 0.69804 0.69804 1.0"/>
      </material>
    </visual>
    <visual name="BodyYaw_B21_Link_visual">
      <origin xyz="-0.14468164000000008 -0.029998 0.04741" rpy="1.5707999999999998 -0.0 -3.4915e-15"/>
      <geometry>
        <mesh filename="../meshes/BodyYaw_B21_Link.STL"/>
      </geometry>
      <material name="">
        <color rgba="0.69804 0.69804 0.69804 1.0"/>
      </material>
    </visual>
  </link>
  <joint name="Camera_Left" type="fixed">
    <origin xyz="0.12605 0.0402 0.089608" rpy="-1.5707999999999998 0 -1.5707999999999998"/>
    <axis xyz="0.0 0.0 0.0"/>
    <parent link="HeadYaw_Link"/>
    <child link="Camera_Left_Link"/>
  </joint>
  <link name="Camera_Left_Link"/>
  <joint name="Camera_Right" type="fixed">
    <origin xyz="0.12605 -0.0402 0.089608"  rpy="-1.5707999999999998 0 -1.5707999999999998"/>
    <axis xyz="0.0 0.0 0.0"/>
    <parent link="HeadYaw_Link"/>
    <child link="Camera_Right_Link"/>
  </joint>
  <link name="Camera_Right_Link"/>
  <joint name="Camera_Torso" type="fixed">
    <origin xyz="0.182 0.0 0.383" rpy="0.0 0.0 0.0"/>
    <parent link="BodyYaw_Link"/>
    <child link="Camera_Torso_Link"/>
  </joint>
  <link name="Camera_Torso_Link"/>
  <joint name="FLC_FrontLeft" type="fixed">
    <origin xyz="0.13 -0.04 0.0274" rpy="3.1416 0.0 0.0"/>
    <axis xyz="0.0 0.0 0.0"/>
    <parent link="LLAnkle_FT"/>
    <child link="FLC_FrontLeft_Link"/>
  </joint>
  <link name="FLC_FrontLeft_Link">
    <collision name="FLC_FrontLeft_Collision">
      <origin xyz="0.0 0.0 0.0" rpy="0.0 0.0 0.0"/>
      <geometry>
        <sphere radius="0.017"/>
      </geometry>
    </collision>
  </link>
  <joint name="FLC_FrontRight" type="fixed">
    <origin xyz="0.13 0.04 0.0274" rpy="3.1416 0.0 0.0"/>
    <axis xyz="0.0 0.0 0.0"/>
    <parent link="LLAnkle_FT"/>
    <child link="FLC_FrontRight_Link"/>
  </joint>
  <link name="FLC_FrontRight_Link">
    <collision name="FLC_FrontRight_Collision">
      <origin xyz="0.0 0.0 0.0" rpy="0.0 0.0 0.0"/>
      <geometry>
        <sphere radius="0.017"/>
      </geometry>
    </collision>
  </link>
  <joint name="FLC_RearLeft" type="fixed">
    <origin xyz="-0.07 -0.04 0.0274" rpy="3.1416 0.0 0.0"/>
    <axis xyz="0.0 0.0 0.0"/>
    <parent link="LLAnkle_FT"/>
    <child link="FLC_RearLeft_Link"/>
  </joint>
  <link name="FLC_RearLeft_Link">
    <collision name="FLC_RearLeft_Collision">
      <origin xyz="0.0 0.0 0.0" rpy="0.0 0.0 0.0"/>
      <geometry>
        <sphere radius="0.017"/>
      </geometry>
    </collision>
  </link>
  <joint name="FLC_RearRight" type="fixed">
    <origin xyz="-0.07 0.04 0.0274" rpy="3.1416 0.0 0.0"/>
    <axis xyz="0.0 0.0 0.0"/>
    <parent link="LLAnkle_FT"/>
    <child link="FLC_RearRight_Link"/>
  </joint>
  <link name="FLC_RearRight_Link">
    <collision name="FLC_RearRight_Collision">
      <origin xyz="0.0 0.0 0.0" rpy="0.0 0.0 0.0"/>
      <geometry>
        <sphere radius="0.017"/>
      </geometry>
    </collision>
  </link>
  <link name="FL_SupportCenter"/>
  <joint name="FL_SupportCenter" type="fixed">
    <origin xyz="0.03 0.0 0.0444" rpy="3.1416 0.0 0.0"/>
    <axis xyz="0.0 0.0 0.0"/>
    <parent link="LLAnkle_FT"/>
    <child link="FL_SupportCenter"/>
  </joint>
  <joint name="FRC_FrontLeft" type="fixed">
    <origin xyz="0.13 -0.04 0.0274" rpy="3.1416 0.0 0.0"/>
    <axis xyz="0.0 0.0 0.0"/>
    <parent link="LRAnkle_FT"/>
    <child link="FRC_FrontLeft_Link"/>
  </joint>
  <link name="FRC_FrontLeft_Link">
    <collision name="FRC_FrontLeft_Collision">
      <origin xyz="0.0 0.0 0.0" rpy="0.0 0.0 0.0"/>
      <geometry>
        <sphere radius="0.017"/>
      </geometry>
    </collision>
  </link>
  <joint name="FRC_FrontRight" type="fixed">
    <origin xyz="0.13 0.04 0.0274" rpy="3.1416 0.0 0.0"/>
    <axis xyz="0.0 0.0 0.0"/>
    <parent link="LRAnkle_FT"/>
    <child link="FRC_FrontRight_Link"/>
  </joint>
  <link name="FRC_FrontRight_Link">
    <collision name="FRC_FrontRight_Collision">
      <origin xyz="0.0 0.0 0.0" rpy="0.0 0.0 0.0"/>
      <geometry>
        <sphere radius="0.017"/>
      </geometry>
    </collision>
  </link>
  <joint name="FRC_RearLeft" type="fixed">
    <origin xyz="-0.07 -0.04 0.0274" rpy="3.1416 0.0 0.0"/>
    <axis xyz="0.0 0.0 0.0"/>
    <parent link="LRAnkle_FT"/>
    <child link="FRC_RearLeft_Link"/>
  </joint>
  <link name="FRC_RearLeft_Link">
    <collision name="FRC_RearLeft_Collision">
      <origin xyz="0.0 0.0 0.0" rpy="0.0 0.0 0.0"/>
      <geometry>
        <sphere radius="0.017"/>
      </geometry>
    </collision>
  </link>
  <joint name="FRC_RearRight" type="fixed">
    <origin xyz="-0.07 0.04 0.0274" rpy="3.1416 0.0 0.0"/>
    <axis xyz="0.0 0.0 0.0"/>
    <parent link="LRAnkle_FT"/>
    <child link="FRC_RearRight_Link"/>
  </joint>
  <link name="FRC_RearRight_Link">
    <collision name="FRC_RearRight_Collision">
      <origin xyz="0.0 0.0 0.0" rpy="0.0 0.0 0.0"/>
      <geometry>
        <sphere radius="0.017"/>
      </geometry>
    </collision>
  </link>
  <link name="FR_SupportCenter"/>
  <joint name="FR_SupportCenter" type="fixed">
    <origin xyz="0.03 0.0 0.0444" rpy="3.1416 0.0 0.0"/>
    <axis xyz="0.0 0.0 0.0"/>
    <parent link="LRAnkle_FT"/>
    <child link="FR_SupportCenter"/>
  </joint>
  <joint name="HeadPitch" type="revolute">
    <origin xyz="0.00395 0.0 0.66179" rpy="2.8216e-18 3.4225e-16 1.0489e-14"/>
    <axis xyz="0.0 1.0 0.0"/>
    <parent link="BodyYaw_Link"/>
    <child link="HeadPitch_Link"/>
    <limit effort="9.8" lower="-0.3490658504" upper="0.2617993878" velocity="8.0553657784"/>
  </joint>
  <link name="HeadPitch_Link">
    <inertial>
      <origin xyz="0.0029695 3.7352e-08 -4.1086e-09" rpy="0.0 0.0 0.0"/>
      <mass value="0.01353"/>
      <inertia ixx="1.2693e-06" ixy="2.9253e-12" ixz="-1.323e-13" iyy="2.1697e-06" iyz="-1.983e-12" izz="3.0472e-06"/>
    </inertial>
    <visual name="HeadPitch_Link_visual">
      <origin xyz="0.0 0.0 0.0" rpy="0.0 0.0 0.0"/>
      <geometry>
        <mesh filename="../meshes/HeadPitch_Link.STL"/>
      </geometry>
      <material name="">
        <color rgba="0.69804 0.69804 0.69804 1.0"/>
      </material>
    </visual>
  </link>
  <joint name="HeadRoll" type="revolute">
    <origin xyz="0.0 0.0 0.0" rpy="1.6457e-37 0.0 0.0"/>
    <axis xyz="1.0 0.0 0.0"/>
    <parent link="HeadPitch_Link"/>
    <child link="HeadRoll_Link"/>
    <limit effort="9.8" lower="-0.436332313" upper="0.436332313" velocity="8.0553657784"/>
  </joint>
  <link name="HeadRoll_Link">
    <inertial>
      <origin xyz="-0.0040042 1.6567e-08 0.017195" rpy="0.0 0.0 0.0"/>
      <mass value="0.03223"/>
      <inertia ixx="1.2379e-05" ixy="7.9876e-12" ixz="-2.2191e-06" iyy="2.1298e-05" iyz="5.8926e-11" izz="1.355e-05"/>
    </inertial>
    <visual name="HeadRoll_Link_visual">
      <origin xyz="0.0 0.0 0.0" rpy="0.0 0.0 0.0"/>
      <geometry>
        <mesh filename="../meshes/HeadRoll_Link.STL"/>
      </geometry>
      <material name="">
        <color rgba="0.69804 0.69804 0.69804 1.0"/>
      </material>
    </visual>
  </link>
  <joint name="HeadYaw" type="revolute">
    <origin xyz="0.0 0.0 0.0" rpy="1.6457e-37 0.0 0.0"/>
    <axis xyz="0.0 0.0 1.0"/>
    <parent link="HeadRoll_Link"/>
    <child link="HeadYaw_Link"/>
    <limit effort="4.9" lower="-1.5707963268" upper="1.5707963268" velocity="8.0553657784"/>
  </joint>
  <link name="HeadYaw_Link">
    <inertial>
      <origin xyz="0.029368 -0.00017537 0.06406" rpy="0.0 0.0 0.0"/>
      <mass value="1.7003"/>
      <inertia ixx="0.01193" ixy="-2.7459e-05" ixz="0.0010678" iyy="0.01151" iyz="-4.681e-05" izz="0.012306"/>
    </inertial>
    <visual name="HeadYaw_Link_visual">
      <origin xyz="0.0 0.0 0.0" rpy="0.0 0.0 0.0"/>
      <geometry>
        <mesh filename="../meshes/HeadYaw_Link.STL"/>
      </geometry>
      <material name="">
        <color rgba="0.69804 0.69804 0.69804 1.0"/>
      </material>
    </visual>
    <collision name="HeadYaw_Link_collision">
      <origin xyz="0.017298340797424316 1.171603798866272e-05 0.04981091618537903" rpy="0.0 -0.0 0.0"/>
      <geometry>
        <sphere radius="0.1292259246110916"/>
      </geometry>
    </collision>
  </link>
  <joint name="IMU" type="fixed">
    <origin xyz="0.175 0.0 0.145" rpy="0.0 -1.57079632679 3.14159265359"/>
    <!--origin xyz="0.0 0.0 0.0" rpy="0.0 0 0"/-->
    <axis xyz="0.0 0.0 0.0"/>
    <parent link="RH5_Root_Link"/>
    <child link="IMU_Link"/>
  </joint>
  <link name="IMU_Link"/>
  <joint name="Initial_root" type="fixed">
    <origin xyz="0.0 0.0 0.02" rpy="0.0 0.0 0.0"/>
    <axis xyz="0.0 0.0 0.0"/>
    <parent link="BodyYaw_Link"/>
    <child link="Initial_root_Link"/>
  </joint>
  <link name="Initial_root_Link"/>
  <joint name="LLAnklePitch" type="revolute">
    <origin xyz="0.0 0.0 0.0" rpy="0.0 0.0 0.0"/>
    <axis xyz="0.0 1.0 0.0"/>
    <parent link="LLAnkleRoll_Link"/>
    <child link="LLAnklePitch_Link"/>
    <limit effort="200.0" lower="-0.8988445648" upper="0.7853981634" velocity="6.0"/>
  </joint>
  <link name="LLAnklePitch_Link">
    <inertial>
      <origin xyz="2.8493e-18 -1.3878e-16 0.0" rpy="0.0 0.0 0.0"/>
      <mass value="0.05002825763253648"/>
      <inertia ixx="1.1393245912e-05" ixy="1.7670484276950664e-28" ixz="-1.2474451909533485e-12" iyy="1.0892263576532345e-05" iyz="0.0" izz="2.9520429504676554e-06"/>
    </inertial>
    <visual name="LLAnklePitch_Link_visual">
      <origin xyz="0.0 0.0 0.0" rpy="0.0 0.0 0.0"/>
      <geometry>
        <mesh filename="../meshes/AnklePitch_Link.STL"/>
      </geometry>
      <material name="">
        <color rgba="0.79216 0.81961 0.93333 1.0"/>
      </material>
    </visual>
    <visual name="LLAnkle_E21_Link_visual">
      <origin xyz="-0.07 -0.04 0.0" rpy="-0.05066 -0.0 0.0"/>
      <geometry>
        <mesh filename="../meshes/Ankle_E21_Link.STL"/>
      </geometry>
      <material name="">
        <color rgba="0.69804 0.69804 0.69804 1.0"/>
      </material>
    </visual>
    <visual name="LLAnkle_E11_Link_visual">
      <origin xyz="-0.07 0.04 0.0" rpy="0.05066 -0.0 0.0"/>
      <geometry>
        <mesh filename="../meshes/Ankle_E11_Link.STL"/>
      </geometry>
      <material name="">
        <color rgba="0.69804 0.69804 0.69804 1.0"/>
      </material>
    </visual>
  </link>
  <joint name="LLAnkleRoll" type="revolute">
    <origin xyz="0.42 0.0 0.0015" rpy="1.5708 5.551115123125783e-17 -1.5708"/>
    <axis xyz="1.0 0.0 0.0"/>
    <parent link="LLKnee_Link"/>
    <child link="LLAnkleRoll_Link"/>
    <limit effort="200.0" lower="-0.9948376736" upper="0.9948376736" velocity="6.0"/>
  </joint>
  <link name="LLAnkleRoll_Link">
    <inertial>
      <origin xyz="-4.1608e-08 7.2923e-08 -5.2997e-09" rpy="0.0 0.0 0.0"/>
      <mass value="0.02493"/>
      <inertia ixx="2.9269e-06" ixy="-7.8377e-12" ixz="-1.0382e-12" iyy="1.1591e-06" iyz="1.5876e-12" izz="3.5758e-06"/>
    </inertial>
    <visual name="LLAnkleRoll_Link_visual">
      <origin xyz="0.0 0.0 0.0" rpy="0.0 0.0 0.0"/>
      <geometry>
        <mesh filename="../meshes/AnkleRoll_Link.STL"/>
      </geometry>
      <material name="">
        <color rgba="0.64706 0.61961 0.58824 1.0"/>
      </material>
    </visual>
  </link>
  <link name="LLAnkle_FT">
    <inertial>
      <origin xyz="0.016102 4.5932e-05 0.0078533" rpy="0.0 0.0 0.0"/>
      <mass value="1.2348"/>
      <inertia ixx="0.0018722" ixy="1.7891e-07" ixz="-0.00077672" iyy="0.0072567" iyz="3.8393e-06" izz="0.007267"/>
    </inertial>
    <visual name="LLAnkle_FT_visual">
      <origin xyz="0.0 0.0 0.0" rpy="0.0 0.0 0.0"/>
      <geometry>
        <mesh filename="../meshes/FL_FT_Link.STL"/>
      </geometry>
      <material name="">
        <color rgba="0.69804 0.69804 0.69804 1.0"/>
      </material>
    </visual>
  </link>
  <joint name="LLAnkle_FT" type="fixed">
    <origin xyz="0.0 0.0 -0.058972" rpy="-3.1416 0.0 -1.2151e-16"/>
    <axis xyz="0.0 0.0 0.0"/>
    <parent link="LLAnklePitch_Link"/>
    <child link="LLAnkle_FT"/>
  </joint>
  <joint name="LLHip1" type="revolute">
    <origin xyz="0.0735 0.11044 0.014269" rpy="8.0247e-16 0.2618 -1.5708"/>
    <axis xyz="0.0 0.0 1.0"/>
    <parent link="RH5_Root_Link"/>
    <child link="LLHip1_Link"/>
    <limit effort="135.0" lower="-0.7854" upper="0.7854" velocity="1.8326"/>
  </joint>
  <link name="LLHip1_Link">
    <inertial>
      <origin xyz="-4.7812e-08 -0.0016168 0.04962" rpy="0.0 0.0 0.0"/>
      <mass value="0.5"/>
      <inertia ixx="0.0020247" ixy="7.2405e-09" ixz="3.8164e-09" iyy="0.00095765" iyz="-0.00012913" izz="0.0015078"/>
    </inertial>
    <visual name="LLHip1_Link_visual">
      <origin xyz="0.0 0.0 0.0" rpy="0.0 0.0 0.0"/>
      <geometry>
        <mesh filename="../meshes/LLHip1_Link.STL"/>
      </geometry>
      <material name="">
        <color rgba="0.69804 0.69804 0.69804 1.0"/>
      </material>
    </visual>
  </link>
  <joint name="LLHip2" type="revolute">
    <origin xyz="0.0 0.0 0.0" rpy="9.8608e-32 2.7756e-17 -4.9304e-32"/>
    <axis xyz="0.0 1.0 0.0"/>
    <parent link="LLHip1_Link"/>
    <child link="LLHip2_Link"/>
    <limit effort="135.0" lower="-0.4363" upper="0.8727" velocity="1.8326"/>
  </joint>
  <link name="LLHip2_Link">
    <inertial>
      <origin xyz="0.0013954 0.0024309 -0.0053241" rpy="0.0 0.0 0.0"/>
      <mass value="2.3580361324518035"/>
      <inertia ixx="0.008083434004413779" ixy="2.6244834705305358e-05" ixz="0.0015310237705679207" iyy="0.007915769158281745" iyz="-9.344933737144451e-05" izz="0.0027252481373044738"/>
    </inertial>
    <visual name="LLHip2_Link_visual">
      <origin xyz="0.0 0.0 0.0" rpy="0.0 0.0 0.0"/>
      <geometry>
        <mesh filename="../meshes/LLHip2_Link.STL"/>
      </geometry>
      <material name="">
        <color rgba="0.69804 0.69804 0.69804 1.0"/>
      </material>
    </visual>
    <visual name="LLHip3_B11_Link_visual">
      <origin xyz="0.018117 -0.09 -0.067615" rpy="-2.5686 1.2576999999999998 0.5958800000000001"/>
      <geometry>
        <mesh filename="../meshes/Hip3_B11_Link.STL"/>
      </geometry>
      <material name="">
        <color rgba="0.69804 0.69804 0.69804 1.0"/>
      </material>
    </visual>
    <visual name="LLHip3_Act1_Link_visual">
      <origin xyz="0.09393098308289657 -0.038590125898753366 -0.3505567339559511" rpy="0.5729999999999998 1.2576999999999994 0.5958800000000001"/>
      <geometry>
        <mesh filename="../meshes/LLHip3_Act1_Link.STL"/>
      </geometry>
      <material name="">
        <color rgba="0.69804 0.69804 0.69804 1.0"/>
      </material>
    </visual>
  </link>
  <joint name="LLHip3" type="revolute">
    <origin xyz="0.0 0.0 0.0" rpy="9.8608e-32 2.7756e-17 -4.9304e-32"/>
    <axis xyz="-0.96593 0.0 -0.25882"/>
    <parent link="LLHip2_Link"/>
    <child link="LLHip3_Link"/>
    <limit effort="378.0" lower="-1.16" upper="0.28" velocity="2.321"/>
  </joint>
  <link name="LLHip3_Link">
    <inertial>
      <origin xyz="0.051263 0.0072511 -0.19232" rpy="0.0 0.0 0.0"/>
      <mass value="2.4377337930824305"/>
      <inertia ixx="0.0267577627146784" ixy="3.2673817728971014e-05" ixz="0.0032268691746643605" iyy="0.029394554214711634" iyz="-0.0001498356765101371" izz="0.005399934370609966"/>
    </inertial>
    <visual name="LLHip3_Link_visual">
      <origin xyz="0.0 0.0 0.0" rpy="0.0 0.0 0.0"/>
      <geometry>
        <mesh filename="../meshes/Hip3_Link.STL"/>
      </geometry>
      <material name="">
        <color rgba="0.69804 0.69804 0.69804 1.0"/>
      </material>
    </visual>
    <collision name="LLHip3_Link_collision">
      <origin xyz="0.05410637838284813 0.005196313895957175 -0.20155622029885475" rpy="2.8786935033165375 0.09046667825579376 1.5464941877752887"/>
      <geometry>
        <box size="0.12200059773407665 0.15002443346404168 0.474515434996993"/>
      </geometry>
    </collision>
    <visual name="LLKnee_B11_Link_visual">
      <origin xyz="0.020175 0.070737 -0.075294" rpy="-0.15080999999999992 1.3059000000000005 -0.15616999999999992"/>
      <geometry>
        <mesh filename="../meshes/Knee_B11_Link.STL"/>
      </geometry>
      <material name="">
        <color rgba="0.69804 0.69804 0.69804 1.0"/>
      </material>
    </visual>
    <visual name="LLKnee_Act1_Link_visual">
      <origin xyz="0.09088512935033356 0.059603540016275505 -0.3391673631423413" rpy="-0.15080999999999994 1.3059000000000005 -0.15616999999999995"/>
      <geometry>
        <mesh filename="../meshes/Knee_Act1_Link.STL"/>
      </geometry>
      <material name="">
        <color rgba="0.69804 0.69804 0.69804 1.0"/>
      </material>
    </visual>
  </link>
  <joint name="LLKnee" type="revolute">
    <origin xyz="0.10788 -0.0005 -0.39684" rpy="3.1416 1.309 -2.9949e-15"/>
    <axis xyz="0.0 0.0 1.0"/>
    <parent link="LLHip3_Link"/>
    <child link="LLKnee_Link"/>
    <limit effort="325.0" lower="-0.026" upper="1.43" velocity="2.321"/>
  </joint>
  <link name="LLKnee_Link">
    <inertial>
      <origin xyz="0.11911 -0.001888 0.00058411" rpy="0.0 0.0 0.0"/>
      <mass value="2.3690392835599923"/>
      <inertia ixx="0.007186070874806159" ixy="-5.408981012900345e-05" ixz="-0.00010460818246783018" iyy="0.015334532906158908" iyz="-0.0009184931600015315" izz="0.019875099619034924"/>
    </inertial>
    <visual name="LLKnee_Link_visual">
      <origin xyz="0.0 0.0 0.0" rpy="0.0 0.0 0.0"/>
      <geometry>
        <mesh filename="../meshes/Knee_Link.STL"/>
      </geometry>
      <material name="">
        <color rgba="0.69804 0.69804 0.69804 1.0"/>
      </material>
    </visual>
    <collision name="LLKnee_Link_collision">
      <origin xyz="0.18142876774072647 -0.003944786265492439 0.0014998912811279297" rpy="0.0 -0.0 0.0"/>
      <geometry>
        <box size="0.5021360367536545 0.12789290770888329 0.11989995092153549"/>
      </geometry>
    </collision>
    <visual name="LLAnkle_B11_Link_visual">
      <origin xyz="0.12872999008627622 0.022301069894637288 0.02649893010538089" rpy="1.5201995950723244 -1.9755524692725744e-06 1.7452956535986952"/>
      <geometry>
        <mesh filename="../meshes/Ankle_B11_Link.STL"/>
      </geometry>
      <material name="">
        <color rgba="0.69804 0.69804 0.69804 1.0"/>
      </material>
    </visual>
    <visual name="LLAnkle_B12_Link_visual">
      <origin xyz="0.12872999008627622 0.022301069894637288 0.02649893010538089" rpy="1.6213921335695103 0.0003060746390916892 -1.4023021588708646"/>
      <geometry>
        <mesh filename="../meshes/Ankle_B12_Link.STL"/>
      </geometry>
      <material name="">
        <color rgba="0.69804 0.69804 0.69804 1.0"/>
      </material>
    </visual>
    <visual name="LLAnkle_Act1_Link_visual">
      <origin xyz="0.39059846357402106 0.06684327487261481 0.03995015565913803" rpy="-3.135543074958524 1.5202022485750566 0.17453865585220907"/>
      <geometry>
        <mesh filename="../meshes/Ankle_Act1_Link.STL"/>
      </geometry>
      <material name="">
        <color rgba="0.69804 0.69804 0.69804 1.0"/>
      </material>
    </visual>
    <visual name="LLAnkle_B21_Link_visual">
      <origin xyz="0.1287301737465314 0.022301069893962668 -0.023501069894281797" rpy="1.6214049022519106 -1.9755524692725744e-06 1.7452956535986952"/>
      <geometry>
        <mesh filename="../meshes/Ankle_B21_Link.STL"/>
      </geometry>
      <material name="">
        <color rgba="0.69804 0.69804 0.69804 1.0"/>
      </material>
    </visual>
    <visual name="LLAnkle_B22_Link_visual">
      <origin xyz="0.1287301737465314 0.022301069893962668 -0.023501069894281797" rpy="1.520188652771982 -0.00030219472845357864 -1.4023021552616228"/>
      <geometry>
        <mesh filename="../meshes/Ankle_B22_Link.STL"/>
      </geometry>
      <material name="">
        <color rgba="0.69804 0.69804 0.69804 1.0"/>
      </material>
    </visual>
    <visual name="LLAnkle_Act2_Link_visual">
      <origin xyz="0.39059848109430023 0.06684329955582428 -0.03695544775297088" rpy="1.520188652771982 -0.00030219472845357864 -1.4023021552616228"/>
      <geometry>
        <mesh filename="../meshes/Ankle_Act2_Link.STL"/>
      </geometry>
      <material name="">
        <color rgba="0.69804 0.69804 0.69804 1.0"/>
      </material>
    </visual>
  </link>
  <joint name="LRAnklePitch" type="revolute">
    <origin xyz="0.0 0.0 0.0" rpy="0.0 0.0 0.0"/>
    <axis xyz="0.0 1.0 0.0"/>
    <parent link="LRAnkleRoll_Link"/>
    <child link="LRAnklePitch_Link"/>
    <limit effort="200.0" lower="-0.8988445648" upper="0.7853981634" velocity="6.0"/>
  </joint>
  <link name="LRAnklePitch_Link">
    <inertial>
      <origin xyz="2.8493e-18 -1.3878e-16 0.0" rpy="0.0 0.0 0.0"/>
      <mass value="0.05002825763253648"/>
      <inertia ixx="1.1393245912e-05" ixy="1.7670484276950664e-28" ixz="-1.2474451909533485e-12" iyy="1.0892263576532345e-05" iyz="0.0" izz="2.9520429504676554e-06"/>
    </inertial>
    <visual name="LRAnklePitch_Link_visual">
      <origin xyz="0.0 0.0 0.0" rpy="0.0 0.0 0.0"/>
      <geometry>
        <mesh filename="../meshes/AnklePitch_Link.STL"/>
      </geometry>
      <material name="">
        <color rgba="0.79216 0.81961 0.93333 1.0"/>
      </material>
    </visual>
    <visual name="LRAnkle_E21_Link_visual">
      <origin xyz="-0.07 -0.04 0.0" rpy="-0.05066 -0.0 0.0"/>
      <geometry>
        <mesh filename="../meshes/Ankle_E21_Link.STL"/>
      </geometry>
      <material name="">
        <color rgba="0.69804 0.69804 0.69804 1.0"/>
      </material>
    </visual>
    <visual name="LRAnkle_E11_Link_visual">
      <origin xyz="-0.07 0.04 0.0" rpy="0.05066 -0.0 0.0"/>
      <geometry>
        <mesh filename="../meshes/Ankle_E11_Link.STL"/>
      </geometry>
      <material name="">
        <color rgba="0.69804 0.69804 0.69804 1.0"/>
      </material>
    </visual>
  </link>
  <joint name="LRAnkleRoll" type="revolute">
    <origin xyz="0.42 0.0 0.0015" rpy="1.5708 5.551115123125783e-17 -1.5708"/>
    <axis xyz="1.0 0.0 0.0"/>
    <parent link="LRKnee_Link"/>
    <child link="LRAnkleRoll_Link"/>
    <limit effort="200.0" lower="-0.9948376736" upper="0.9948376736" velocity="6.0"/>
  </joint>
  <link name="LRAnkleRoll_Link">
    <inertial>
      <origin xyz="-4.1608e-08 7.2923e-08 -5.2997e-09" rpy="0.0 0.0 0.0"/>
      <mass value="0.02493"/>
      <inertia ixx="2.9269e-06" ixy="-7.8377e-12" ixz="-1.0382e-12" iyy="1.1591e-06" iyz="1.5876e-12" izz="3.5758e-06"/>
    </inertial>
    <visual name="LRAnkleRoll_Link_visual">
      <origin xyz="0.0 0.0 0.0" rpy="0.0 0.0 0.0"/>
      <geometry>
        <mesh filename="../meshes/AnkleRoll_Link.STL"/>
      </geometry>
      <material name="">
        <color rgba="0.64706 0.61961 0.58824 1.0"/>
      </material>
    </visual>
  </link>
  <link name="LRAnkle_FT">
    <inertial>
      <origin xyz="0.016102 4.5932e-05 0.0078533" rpy="0.0 0.0 0.0"/>
      <mass value="1.2348"/>
      <inertia ixx="0.0018722" ixy="1.7891e-07" ixz="-0.00077672" iyy="0.0072567" iyz="3.8393e-06" izz="0.007267"/>
    </inertial>
    <visual name="LRAnkle_FT_visual">
      <origin xyz="0.0 0.0 0.0" rpy="0.0 0.0 0.0"/>
      <geometry>
        <mesh filename="../meshes/FL_FT_Link.STL"/>
      </geometry>
      <material name="">
        <color rgba="0.69804 0.69804 0.69804 1.0"/>
      </material>
    </visual>
  </link>
  <joint name="LRAnkle_FT" type="fixed">
    <origin xyz="0.0 0.0 -0.058972" rpy="-3.1416 0.0 -1.2151e-16"/>
    <axis xyz="0.0 0.0 0.0"/>
    <parent link="LRAnklePitch_Link"/>
    <child link="LRAnkle_FT"/>
  </joint>
  <joint name="LRHip1" type="revolute">
    <origin xyz="0.0735 -0.11044 0.014269" rpy="3.4781e-17 -0.2618 -1.5708"/>
    <axis xyz="0.0 0.0 1.0"/>
    <parent link="RH5_Root_Link"/>
    <child link="LRHip1_Link"/>
    <limit effort="135.0" lower="-0.7854" upper="0.7854" velocity="1.8326"/>
  </joint>
  <link name="LRHip1_Link">
    <inertial>
      <origin xyz="-4.5821e-08 -0.0016166 0.04962" rpy="0.0 0.0 0.0"/>
      <mass value="0.5"/>
      <inertia ixx="0.0020247" ixy="8.3227e-09" ixz="3.6838e-09" iyy="0.00095763" iyz="-0.00012913" izz="0.0015078"/>
    </inertial>
    <visual name="LRHip1_Link_visual">
      <origin xyz="0.0 0.0 0.0" rpy="0.0 0.0 0.0"/>
      <geometry>
        <mesh filename="../meshes/LRHip1_Link.STL"/>
      </geometry>
      <material name="">
        <color rgba="0.69804 0.69804 0.69804 1.0"/>
      </material>
    </visual>
  </link>
  <joint name="LRHip2" type="revolute">
    <origin xyz="0.0 0.0 0.0" rpy="-4.0161e-17 0.5236 -2.0081e-17"/>
    <axis xyz="0.0 1.0 0.0"/>
    <parent link="LRHip1_Link"/>
    <child link="LRHip2_Link"/>
    <limit effort="135.0" lower="-0.8727" upper="0.4363" velocity="1.8326"/>
  </joint>
  <link name="LRHip2_Link">
    <inertial>
      <origin xyz="0.0013954 0.0024309 -0.0053241" rpy="0.0 0.0 0.0"/>
      <mass value="2.3580361324518035"/>
      <inertia ixx="0.008083434004413779" ixy="2.6244834705305358e-05" ixz="0.0015310237705679207" iyy="0.007915769158281745" iyz="-9.344933737144451e-05" izz="0.0027252481373044738"/>
    </inertial>
    <visual name="LRHip2_Link_visual">
      <origin xyz="0.0 0.0 0.0" rpy="0.0 0.0 0.0"/>
      <geometry>
        <mesh filename="../meshes/LRHip2_Link.STL"/>
      </geometry>
      <material name="">
        <color rgba="0.69804 0.69804 0.69804 1.0"/>
      </material>
    </visual>
    <visual name="LRHip3_B11_Link_visual">
      <origin xyz="0.018117 -0.09 -0.067615" rpy="-2.5686 1.2576999999999998 0.5958800000000001"/>
      <geometry>
        <mesh filename="../meshes/Hip3_B11_Link.STL"/>
      </geometry>
      <material name="">
        <color rgba="0.69804 0.69804 0.69804 1.0"/>
      </material>
    </visual>
    <visual name="LRHip3_Act1_Link_visual">
      <origin xyz="0.09393098308289657 -0.038590125898753366 -0.3505567339559511" rpy="0.5729999999999998 1.2576999999999994 0.5958800000000001"/>
      <geometry>
        <mesh filename="../meshes/LLHip3_Act1_Link.STL"/>
      </geometry>
      <material name="">
        <color rgba="0.69804 0.69804 0.69804 1.0"/>
      </material>
    </visual>
  </link>
  <joint name="LRHip3" type="revolute">
    <origin xyz="0.0 0.0 0.0" rpy="9.8608e-32 2.7756e-17 -4.9304e-32"/>
    <axis xyz="-0.96593 0.0 -0.25882"/>
    <parent link="LRHip2_Link"/>
    <child link="LRHip3_Link"/>
    <limit effort="378.0" lower="-1.16" upper="0.28" velocity="2.321"/>
  </joint>
  <link name="LRHip3_Link">
    <inertial>
      <origin xyz="0.051263 0.0072511 -0.19232" rpy="0.0 0.0 0.0"/>
      <mass value="2.4377337930824305"/>
      <inertia ixx="0.0267577627146784" ixy="3.2673817728971014e-05" ixz="0.0032268691746643605" iyy="0.029394554214711634" iyz="-0.0001498356765101371" izz="0.005399934370609966"/>
    </inertial>
    <visual name="LRHip3_Link_visual">
      <origin xyz="0.0 0.0 0.0" rpy="0.0 0.0 0.0"/>
      <geometry>
        <mesh filename="../meshes/Hip3_Link.STL"/>
      </geometry>
      <material name="">
        <color rgba="0.69804 0.69804 0.69804 1.0"/>
      </material>
    </visual>
    <collision name="LRHip3_Link_collision">
      <origin xyz="0.05410637838284813 0.005196313895957175 -0.20155622029885475" rpy="2.8786935033165375 0.09046667825579376 1.5464941877752887"/>
      <geometry>
        <box size="0.12200059773407665 0.15002443346404168 0.474515434996993"/>
      </geometry>
    </collision>
    <visual name="LRKnee_B11_Link_visual">
      <origin xyz="0.020175 0.070737 -0.075294" rpy="-0.15080999999999992 1.3059000000000005 -0.15616999999999992"/>
      <geometry>
        <mesh filename="../meshes/Knee_B11_Link.STL"/>
      </geometry>
      <material name="">
        <color rgba="0.69804 0.69804 0.69804 1.0"/>
      </material>
    </visual>
    <visual name="LRKnee_Act1_Link_visual">
      <origin xyz="0.09088512935033356 0.059603540016275505 -0.3391673631423413" rpy="-0.15080999999999994 1.3059000000000005 -0.15616999999999995"/>
      <geometry>
        <mesh filename="../meshes/Knee_Act1_Link.STL"/>
      </geometry>
      <material name="">
        <color rgba="0.69804 0.69804 0.69804 1.0"/>
      </material>
    </visual>
  </link>
  <joint name="LRKnee" type="revolute">
    <origin xyz="0.10788 -0.0005 -0.39684" rpy="3.1416 1.309 -2.9949e-15"/>
    <axis xyz="0.0 0.0 1.0"/>
    <parent link="LRHip3_Link"/>
    <child link="LRKnee_Link"/>
    <limit effort="325.0" lower="-0.026" upper="1.43" velocity="2.321"/>
  </joint>
  <link name="LRKnee_Link">
    <inertial>
      <origin xyz="0.11911 -0.001888 0.00058411" rpy="0.0 0.0 0.0"/>
      <mass value="2.369041606483567"/>
      <inertia ixx="0.00718607087481035" ixy="-5.4089810208980605e-05" ixz="-0.00010460818216963791" iyy="0.015334532907684004" iyz="-0.0009184931643303047" izz="0.01987509961750564"/>
    </inertial>
    <visual name="LRKnee_Link_visual">
      <origin xyz="0.0 0.0 0.0" rpy="0.0 0.0 0.0"/>
      <geometry>
        <mesh filename="../meshes/Knee_Link.STL"/>
      </geometry>
      <material name="">
        <color rgba="0.69804 0.69804 0.69804 1.0"/>
      </material>
    </visual>
    <collision name="LRKnee_Link_collision">
      <origin xyz="0.18142876774072647 -0.003944786265492439 0.0014998912811279297" rpy="0.0 -0.0 0.0"/>
      <geometry>
        <box size="0.5021360367536545 0.12789290770888329 0.11989995092153549"/>
      </geometry>
    </collision>
    <visual name="LRAnkle_B11_Link_visual">
      <origin xyz="0.12872999008627622 0.022301069894637288 0.02649893010538089" rpy="1.5201995950723244 -1.9755524692725744e-06 1.7452956535986952"/>
      <geometry>
        <mesh filename="../meshes/Ankle_B11_Link.STL"/>
      </geometry>
      <material name="">
        <color rgba="0.69804 0.69804 0.69804 1.0"/>
      </material>
    </visual>
    <visual name="LRAnkle_B12_Link_visual">
      <origin xyz="0.12872999008627622 0.022301069894637288 0.02649893010538089" rpy="1.6213921335695103 0.0003060746390916892 -1.4023021588708646"/>
      <geometry>
        <mesh filename="../meshes/Ankle_B12_Link.STL"/>
      </geometry>
      <material name="">
        <color rgba="0.69804 0.69804 0.69804 1.0"/>
      </material>
    </visual>
    <visual name="LRAnkle_Act1_Link_visual">
      <origin xyz="0.39059846357402106 0.06684327487261481 0.03995015565913803" rpy="-3.135543074958524 1.5202022485750566 0.17453865585220907"/>
      <geometry>
        <mesh filename="../meshes/Ankle_Act1_Link.STL"/>
      </geometry>
      <material name="">
        <color rgba="0.69804 0.69804 0.69804 1.0"/>
      </material>
    </visual>
    <visual name="LRAnkle_B21_Link_visual">
      <origin xyz="0.1287301737465314 0.022301069893962668 -0.023501069894281797" rpy="1.5201877513328248 1.8413153890626716e-06 -1.3962996501833926"/>
      <geometry>
        <mesh filename="../meshes/Ankle_B21_Link.STL"/>
      </geometry>
      <material name="">
        <color rgba="0.69804 0.69804 0.69804 1.0"/>
      </material>
    </visual>
    <visual name="LRAnkle_B22_Link_visual">
      <origin xyz="0.1287301737465314 0.022301069893962668 -0.023501069894281797" rpy="1.520188652771982 -0.00030219472845357864 -1.4023021552616228"/>
      <geometry>
        <mesh filename="../meshes/Ankle_B22_Link.STL"/>
      </geometry>
      <material name="">
        <color rgba="0.69804 0.69804 0.69804 1.0"/>
      </material>
    </visual>
    <visual name="LRAnkle_Act2_Link_visual">
      <origin xyz="0.39059848109430023 0.06684329955582428 -0.03695544775297088" rpy="1.520188652771982 -0.00030219472845357864 -1.4023021552616228"/>
      <geometry>
        <mesh filename="../meshes/Ankle_Act2_Link.STL"/>
      </geometry>
      <material name="">
        <color rgba="0.69804 0.69804 0.69804 1.0"/>
      </material>
    </visual>
  </link>
  <link name="RH5_Root_Link">
    <inertial>
      <origin xyz="0.057726 2.1253e-05 0.13284" rpy="0.0 0.0 0.0"/>
      <mass value="4.80289768335972"/>
      <inertia ixx="0.03304656577513494" ixy="-3.6100616894227637e-06" ixz="-0.0020457081602203537" iyy="0.021956704" iyz="-5.465636509300982e-06" izz="0.03752923602486506"/>
    </inertial>
    <visual name="RH5_Root_Link_visual">
      <origin xyz="0.0 0.0 0.0" rpy="0.0 0.0 0.0"/>
      <geometry>
        <mesh filename="../meshes/RH5_Root_Link.STL"/>
      </geometry>
      <material name="">
        <color rgba="0.69804 0.69804 0.69804 1.0"/>
      </material>
    </visual>
    <collision name="RH5_Root_Link_collision">
      <origin xyz="0.04128999263048172 0.0 0.1133179023017874" rpy="0.0 -0.0 0.0"/>
      <geometry>
        <box size="0.2746039479970932 0.3261495530605316 0.22715241627884097"/>
      </geometry>
    </collision>
    <visual name="Body_B21_Link_visual">
      <origin xyz="-0.032000000000097936 0.019999999999651706 0.007000000000004142" rpy="-0.23917265358958625 -1.0127441837298582e-24 9.793190564044702e-12"/>
      <geometry>
        <mesh filename="../meshes/Body_B21_Link.STL"/>
      </geometry>
      <material name="">
        <color rgba="0.69804 0.69804 0.69804 1.0"/>
      </material>
    </visual>
    <visual name="Body_B22_Link_visual">
      <origin xyz="-0.032000000000097936 0.019999999999651706 0.007000000000004142" rpy="-0.23941646446807321 -0.044699407566615786 0.010906984228219958"/>
      <geometry>
        <mesh filename="../meshes/Body_B22_Link.STL"/>
      </geometry>
      <material name="">
        <color rgba="0.69804 0.69804 0.69804 1.0"/>
      </material>
    </visual>
    <visual name="Body_Act2_Link_visual">
      <origin xyz="-0.04304218393473293 0.0768145018662063 0.23999911792024206" rpy="-0.23941646446807358 -0.044699407566615786 0.010906984228220049"/>
      <geometry>
        <mesh filename="../meshes/Body_Act2_Link.STL"/>
      </geometry>
      <material name="">
        <color rgba="0.69804 0.69804 0.69804 1.0"/>
      </material>
    </visual>
    <visual name="Body_B11_Link_visual">
      <origin xyz="-0.031999999999902065 -0.020000000000348295 0.006999999999995871" rpy="0.23917265358999984 -1.0127441837298582e-24 9.793190564044702e-12"/>
      <geometry>
        <mesh filename="../meshes/Body_B11_Link.STL"/>
      </geometry>
      <material name="">
        <color rgba="0.69804 0.69804 0.69804 1.0"/>
      </material>
    </visual>
    <visual name="Body_B12_Link_visual">
      <origin xyz="-0.031999999999902065 -0.020000000000348295 0.006999999999995871" rpy="0.2394164644684859 -0.044699407566611275 -0.01090698420865236"/>
      <geometry>
        <mesh filename="../meshes/Body_B12_Link.STL"/>
      </geometry>
      <material name="">
        <color rgba="0.69804 0.69804 0.69804 1.0"/>
      </material>
    </visual>
    <visual name="Body_Act1_Link_visual">
      <origin xyz="-0.043042183933424266 -0.07681450186721515 0.2399991179202104" rpy="0.2394164644684859 -0.044699407566611275 -0.01090698420865236"/>
      <geometry>
        <mesh filename="../meshes/Body_Act1_Link.STL"/>
      </geometry>
      <material name="">
        <color rgba="0.69804 0.69804 0.69804 1.0"/>
      </material>
    </visual>
  </link>
  <joint name="VLP16" type="fixed">
    <origin xyz="0.0 0.0 0.56179" rpy="0.0 0.0 0.0"/>
    <axis xyz="0.0 0.0 1.0"/>
    <parent link="BodyYaw_Link"/>
    <child link="VLP16_Link"/>
  </joint>
  <link name="VLP16_Link"/>
</robot>
